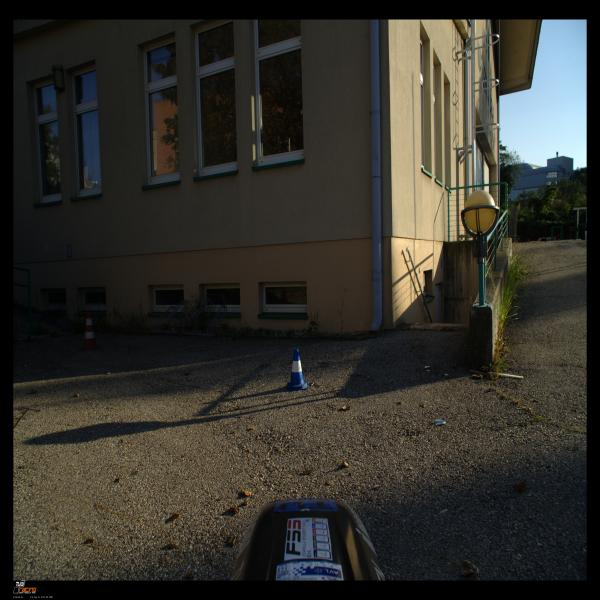blue_cone: (287, 348, 308, 391)
large_orange_cone: (81, 310, 100, 351)
